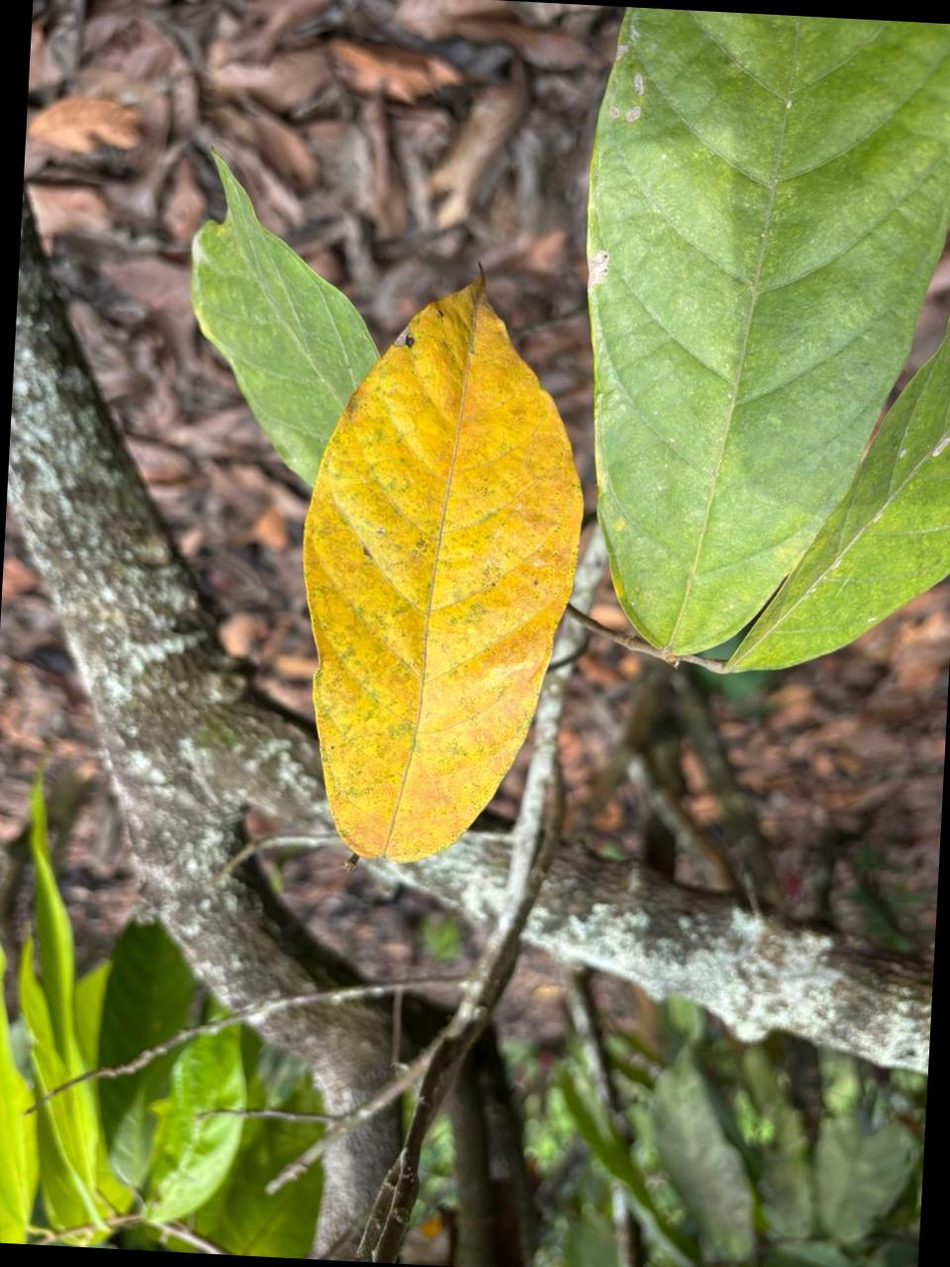Fosforo: (303, 277, 582, 861)
